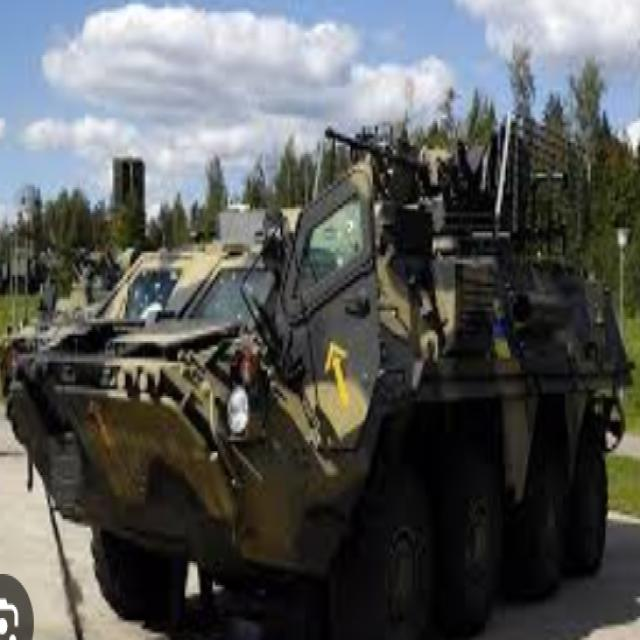MIL_APC: (22, 164, 618, 626)
